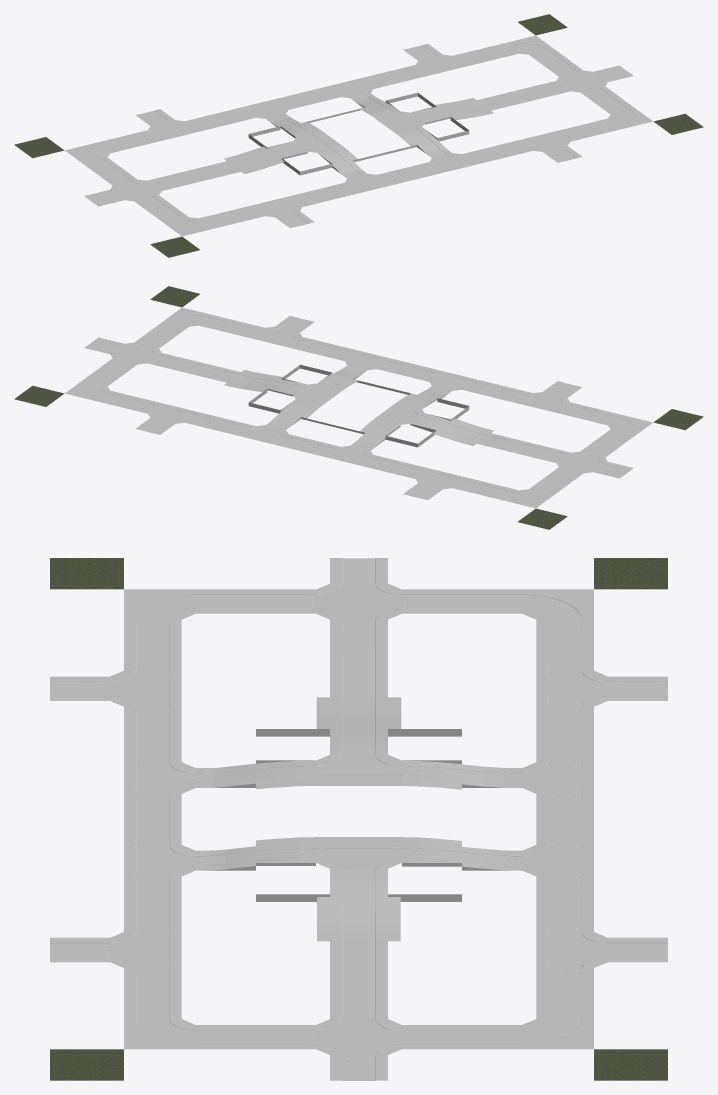
The model's file is Double-Block-01-C.fbx.
The picture shows the model from 3 angles, top to bottom: view 1: azimuth 30°, elevation 25°; view 2: azimuth 150°, elevation 25°; view 3: azimuth 270°, elevation 25°; orthographic projection. The views are drawn at different scales.
Parts seen in each view (by area): view 1: Double-Block, Double-Block-B, Double-Block-Sidewalk, Double-Block-Sidewalk-B; view 2: Double-Block, Double-Block-B, Double-Block-Sidewalk, Double-Block-Sidewalk-B; view 3: Double-Block-B, Double-Block, Double-Block-Sidewalk-B, Double-Block-Sidewalk.
Boxes of the visible parts, x1=… form: Double-Block: x1=14, y1=95, x2=414, y2=257; Double-Block-B: x1=303, y1=14, x2=703, y2=176; Double-Block-Sidewalk: x1=65, y1=93, x2=417, y2=236; Double-Block-Sidewalk-B: x1=301, y1=35, x2=652, y2=178; Double-Block: x1=303, y1=367, x2=703, y2=529; Double-Block-B: x1=14, y1=286, x2=414, y2=448; Double-Block-Sidewalk: x1=300, y1=365, x2=652, y2=508; Double-Block-Sidewalk-B: x1=65, y1=307, x2=416, y2=450; Double-Block-B: x1=50, y1=819, x2=667, y2=1080; Double-Block: x1=50, y1=558, x2=667, y2=819; Double-Block-Sidewalk-B: x1=50, y1=819, x2=667, y2=1080; Double-Block-Sidewalk: x1=50, y1=558, x2=667, y2=819.
Size of what is drawn, in the model's own units: 600 by 4.25 by 300.
